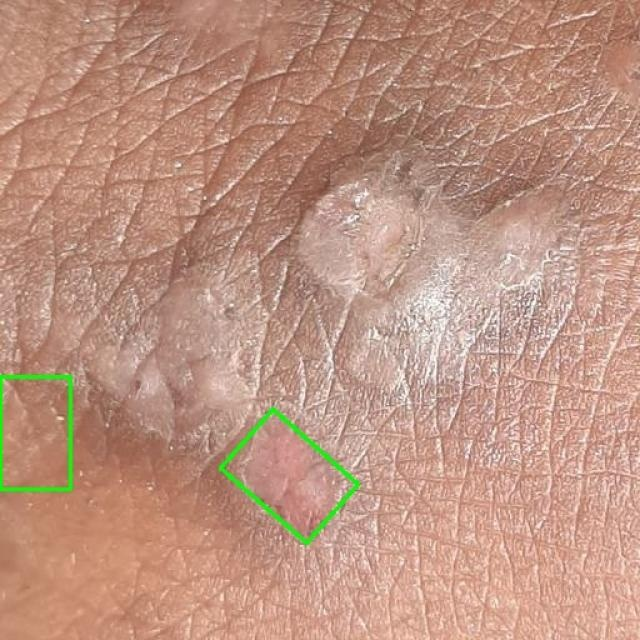Contact Dermatitis: (221, 409, 359, 543), (0, 376, 70, 489)
